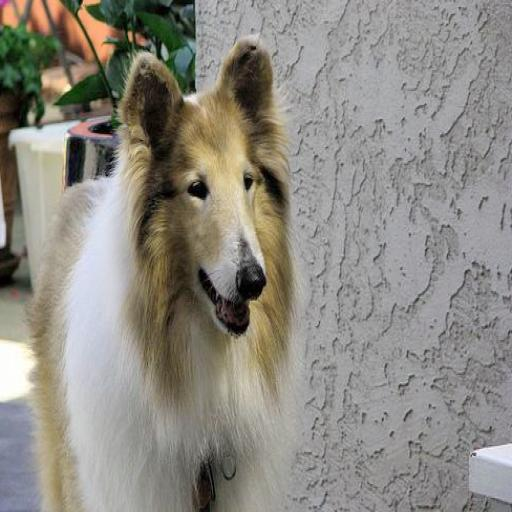dog_face: (129, 43, 278, 340)
